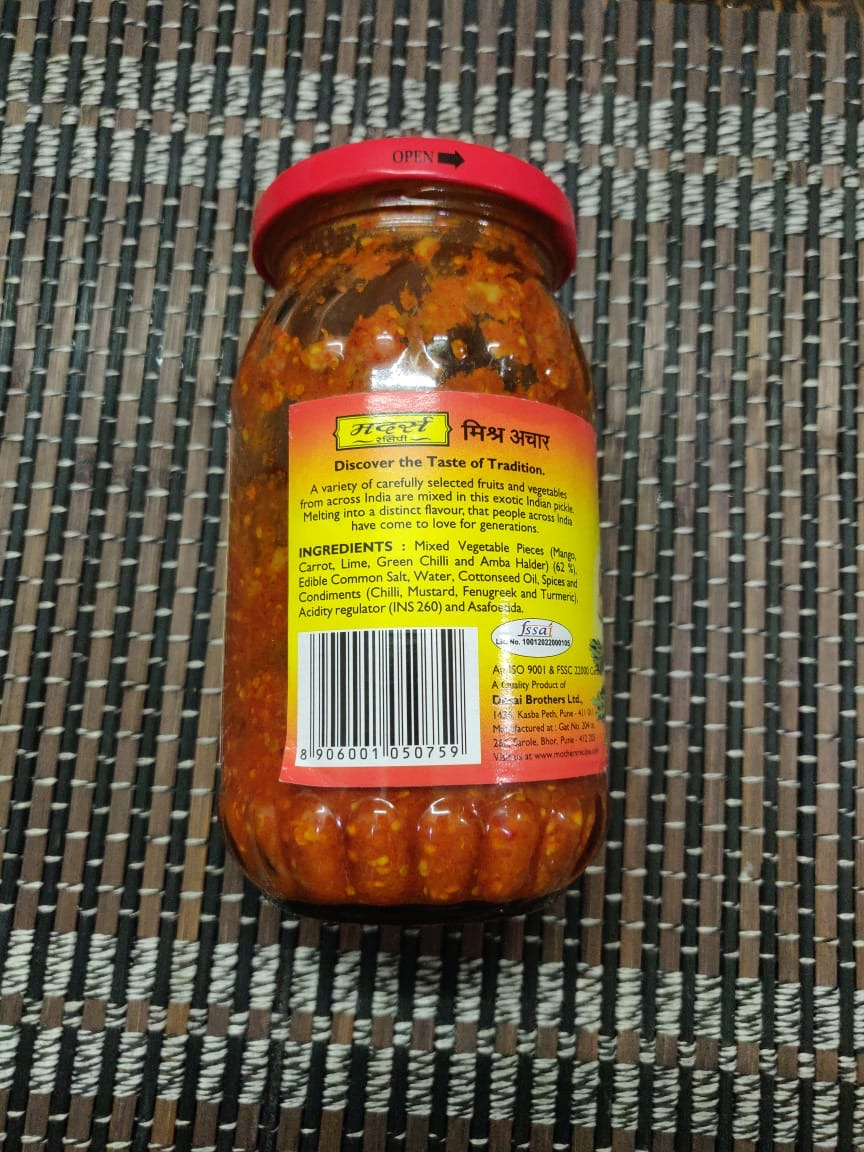barcode: (293, 623, 481, 774)
